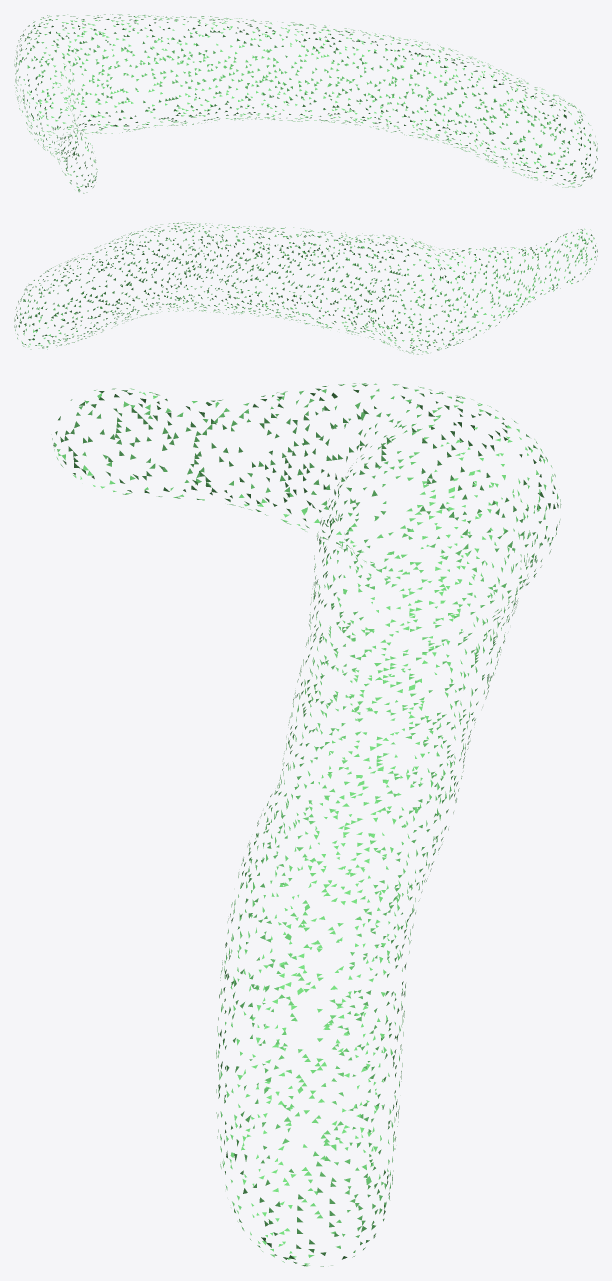
File: morph_018.glb
3 views of the same model, one above another, from view 1: azimuth 30°, elevation 25°; view 2: azimuth 150°, elevation 25°; view 3: azimuth 270°, elevation 25° (orthographic). The views are drawn at different scales.
Bounding box in the file's own units: 135 × 55.86 × 57.98.
